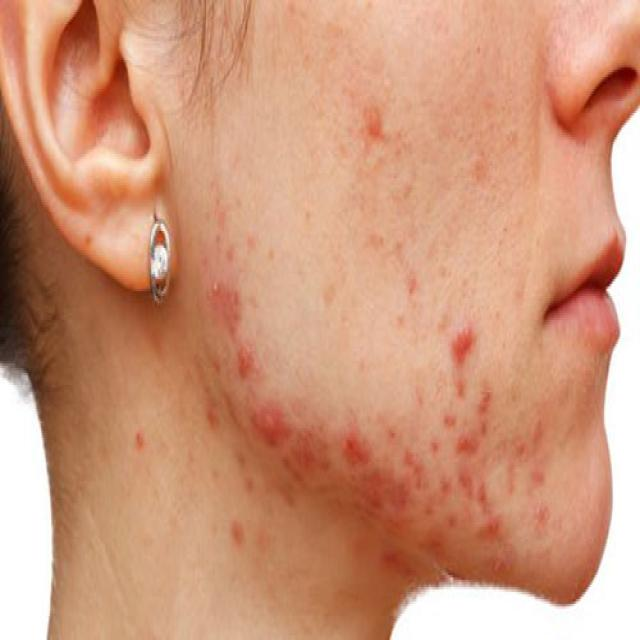Acne: (188, 260, 552, 574), (353, 90, 422, 332), (471, 123, 522, 194)
